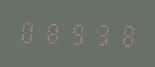eight: (41, 18, 63, 46), (110, 21, 132, 48)
nine: (64, 19, 86, 47)
three: (87, 20, 109, 48)
zero: (18, 17, 40, 45)
